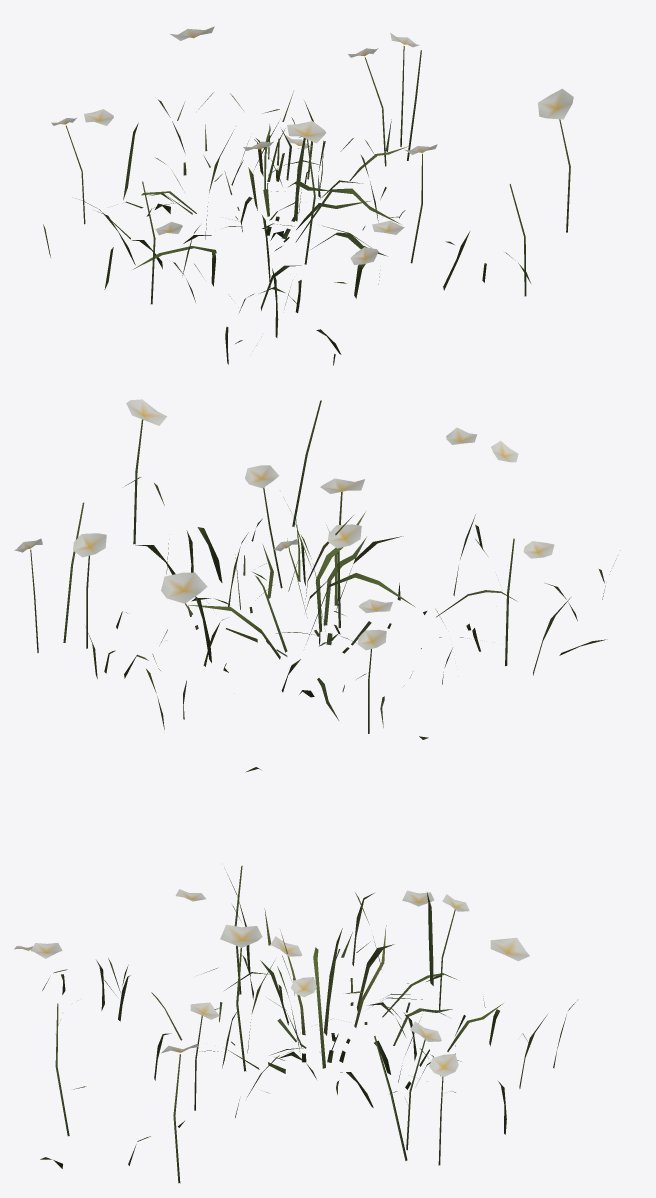
File: gras-tuvor.glb
3 views of the same model, one above another, from view 1: azimuth 30°, elevation 25°; view 2: azimuth 150°, elevation 25°; view 3: azimuth 270°, elevation 25° (orthographic). The views are drawn at different scales.
Visible parts, largest first — view 1: prastkrage, tuvaA, tuvaD; view 2: prastkrage, tuvaD, tuvaA; view 3: prastkrage, tuvaA, tuvaD.
Boxes of the visible parts, x1=… form: prastkrage: x1=51, y1=26, x2=573, y2=304; tuvaA: x1=43, y1=92, x2=530, y2=365; tuvaD: x1=76, y1=91, x2=407, y2=312; prastkrage: x1=14, y1=399, x2=554, y2=733; tuvaD: x1=152, y1=512, x2=516, y2=727; tuvaA: x1=85, y1=477, x2=620, y2=772; prastkrage: x1=14, y1=865, x2=529, y2=1183; tuvaA: x1=40, y1=867, x2=577, y2=1168; tuvaD: x1=151, y1=908, x2=503, y2=1096.
Size of the model in its own units: 0.6463 by 0.2223 by 0.6931.
